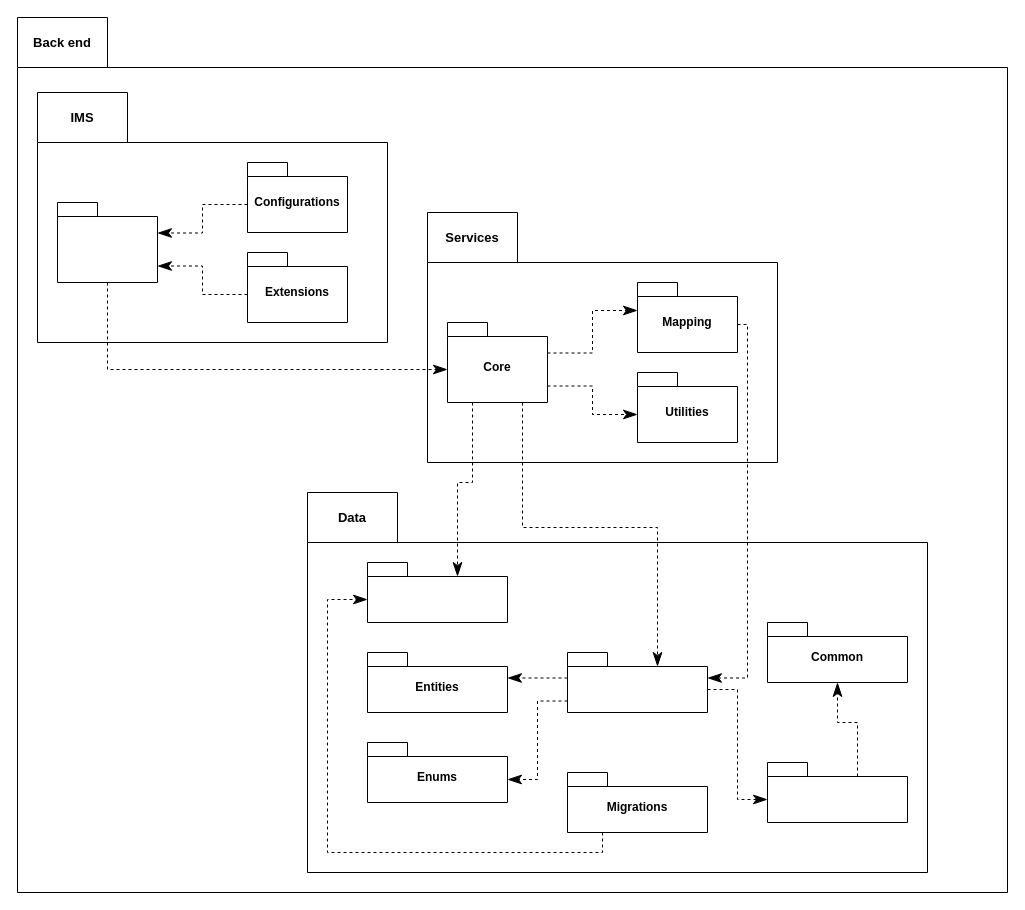
Image size: 1025x910. Some labels were removed from this diagram. The box of each missing label's shape, as (x1, y1, x2, y2) in pixels:
Controllers: (56, 202, 158, 282)
DataAccess: (366, 562, 508, 622)
Model: (566, 652, 708, 712)
Utils: (766, 762, 908, 822)
